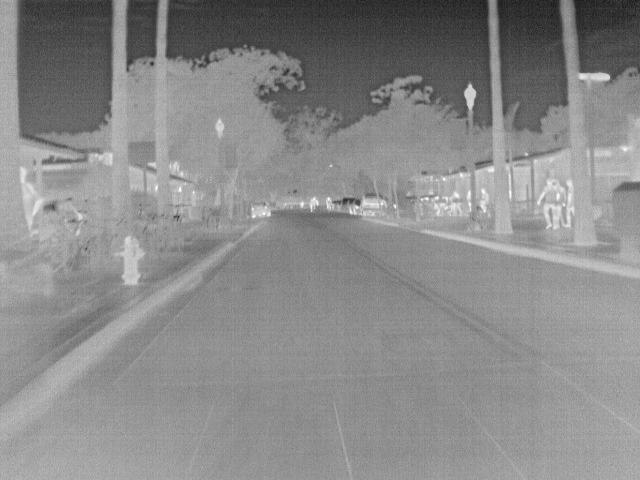car: (360, 192, 385, 216), (248, 199, 274, 218), (348, 196, 360, 215), (340, 197, 352, 212)
person: (536, 176, 563, 232), (563, 176, 576, 232), (451, 192, 464, 217), (478, 184, 490, 211), (309, 195, 321, 214), (326, 195, 335, 213)
